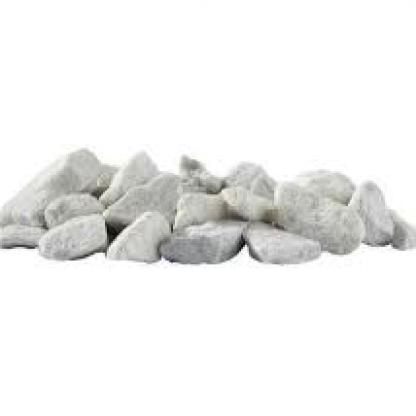Metamorphic_Marble: (261, 182, 375, 252), (154, 208, 254, 268), (109, 208, 175, 264), (35, 212, 113, 258)
